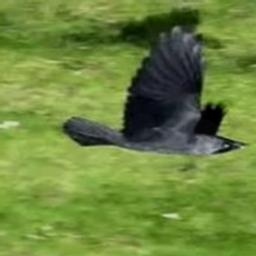Crow: (61, 23, 249, 157)
